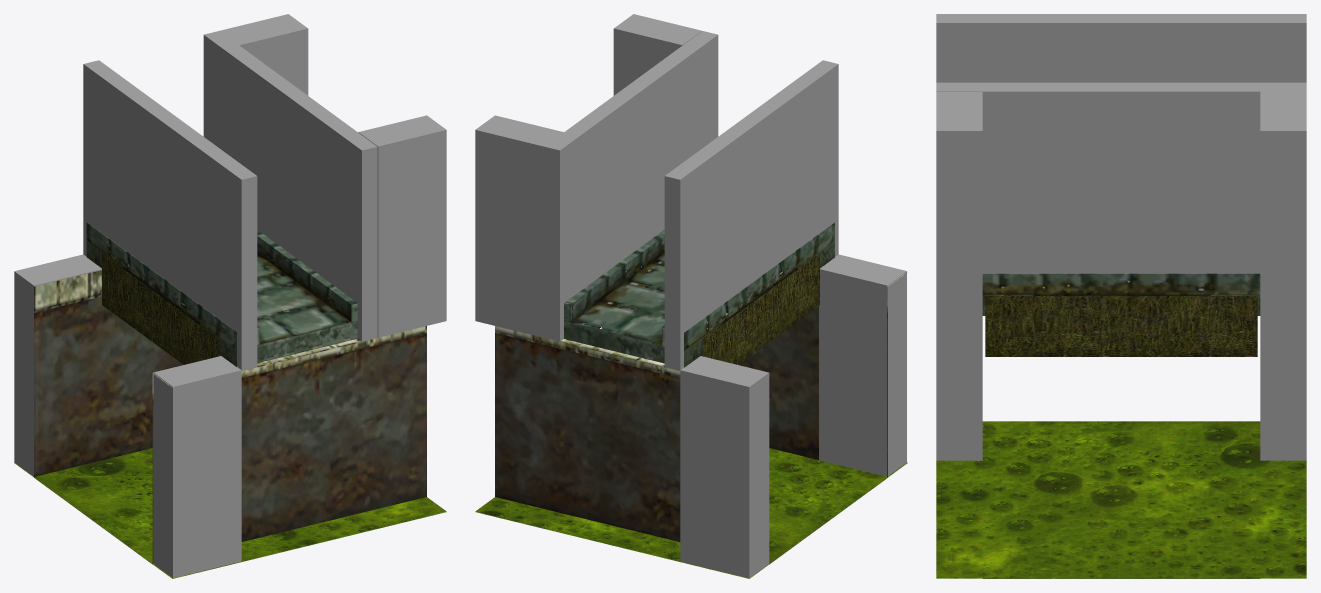
Rendered from sewerDeepBridgeA.fbx.
3 renders of one model, left to right at view 1: azimuth 30°, elevation 25°; view 2: azimuth 150°, elevation 25°; view 3: azimuth 270°, elevation 25°, orthographic. The views are drawn at different scales.
Visible parts, largest first — view 1: sewerDeepBridgeAQ, mvcv_obb_sewerDeepBridgeAQ_01, mvcv_obb_sewerDeepBridgeAQ_02, mvcv_obb_sewerDeepBridgeAQ_06, sewerDeepBridgeA, mvcv_obb_sewerDeepBridgeQ_04, waterPlaneC09, mvcv_obb_sewerDeepBridgeAQ_05, mvcv_obb_sewerDeepBridgeAQ_03; view 2: sewerDeepBridgeAQ, mvcv_obb_sewerDeepBridgeAQ_01, mvcv_obb_sewerDeepBridgeAQ_02, mvcv_obb_sewerDeepBridgeAQ_05, mvcv_obb_sewerDeepBridgeAQ_06, sewerDeepBridgeA, mvcv_obb_sewerDeepBridgeAQ_03, waterPlaneC09, mvcv_obb_sewerDeepBridgeQ_04; view 3: waterPlaneC09, mvcv_obb_sewerDeepBridgeAQ_02, mvcv_obb_sewerDeepBridgeAQ_01, sewerDeepBridgeA, mvcv_obb_sewerDeepBridgeAQ_03, mvcv_obb_sewerDeepBridgeQ_04, mvcv_obb_sewerDeepBridgeAQ_05, mvcv_obb_sewerDeepBridgeAQ_06.
Part boxes in pixels (<box>): sewerDeepBridgeAQ: <box>34,270,426,564</box>; mvcv_obb_sewerDeepBridgeAQ_01: <box>83,60,257,370</box>; mvcv_obb_sewerDeepBridgeAQ_02: <box>203,31,377,341</box>; mvcv_obb_sewerDeepBridgeAQ_06: <box>153,356,241,577</box>; sewerDeepBridgeA: <box>86,222,357,367</box>; mvcv_obb_sewerDeepBridgeQ_04: <box>358,115,446,337</box>; waterPlaneC09: <box>34,448,446,578</box>; mvcv_obb_sewerDeepBridgeAQ_05: <box>14,254,101,476</box>; mvcv_obb_sewerDeepBridgeAQ_03: <box>219,14,308,95</box>; sewerDeepBridgeAQ: <box>495,272,907,564</box>; mvcv_obb_sewerDeepBridgeAQ_01: <box>664,60,838,370</box>; mvcv_obb_sewerDeepBridgeAQ_02: <box>544,31,718,341</box>; mvcv_obb_sewerDeepBridgeAQ_05: <box>680,356,769,578</box>; mvcv_obb_sewerDeepBridgeAQ_06: <box>819,254,906,476</box>; sewerDeepBridgeA: <box>564,222,834,367</box>; mvcv_obb_sewerDeepBridgeAQ_03: <box>475,115,563,337</box>; waterPlaneC09: <box>475,448,907,563</box>; mvcv_obb_sewerDeepBridgeQ_04: <box>613,14,701,95</box>; waterPlaneC09: <box>936,421,1306,577</box>; mvcv_obb_sewerDeepBridgeAQ_02: <box>936,82,1306,290</box>; mvcv_obb_sewerDeepBridgeAQ_01: <box>936,14,1306,82</box>; sewerDeepBridgeA: <box>982,273,1260,356</box>; mvcv_obb_sewerDeepBridgeAQ_03: <box>1260,91,1306,354</box>; mvcv_obb_sewerDeepBridgeQ_04: <box>936,92,982,354</box>; mvcv_obb_sewerDeepBridgeAQ_05: <box>1260,355,1306,460</box>; mvcv_obb_sewerDeepBridgeAQ_06: <box>936,355,982,460</box>.
Size of the model in its own units: 300 by 400 by 300.
6 materials, 5 textured.
